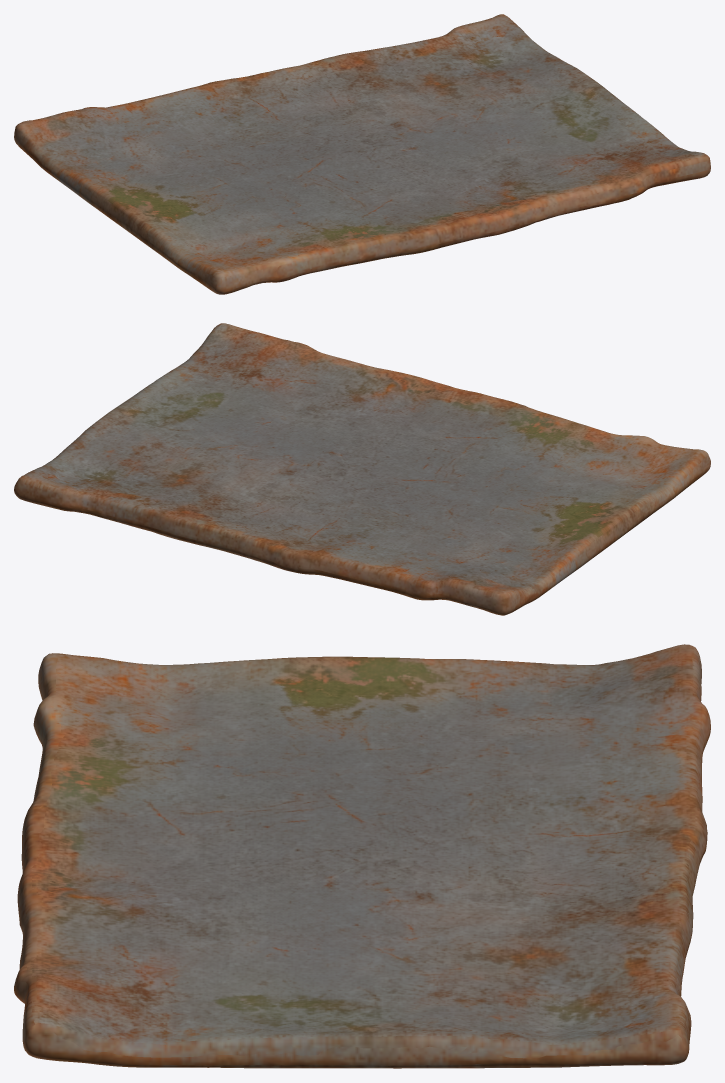
The model's file is raw.glb.
3 views of the same model, one above another, from view 1: azimuth 30°, elevation 25°; view 2: azimuth 150°, elevation 25°; view 3: azimuth 270°, elevation 25° (orthographic). The views are drawn at different scales.
Size of the model in its own units: 1.01 by 0.0559 by 0.7645.
1 material, 1 textured.
